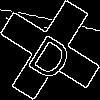D: (25, 25, 80, 84)
